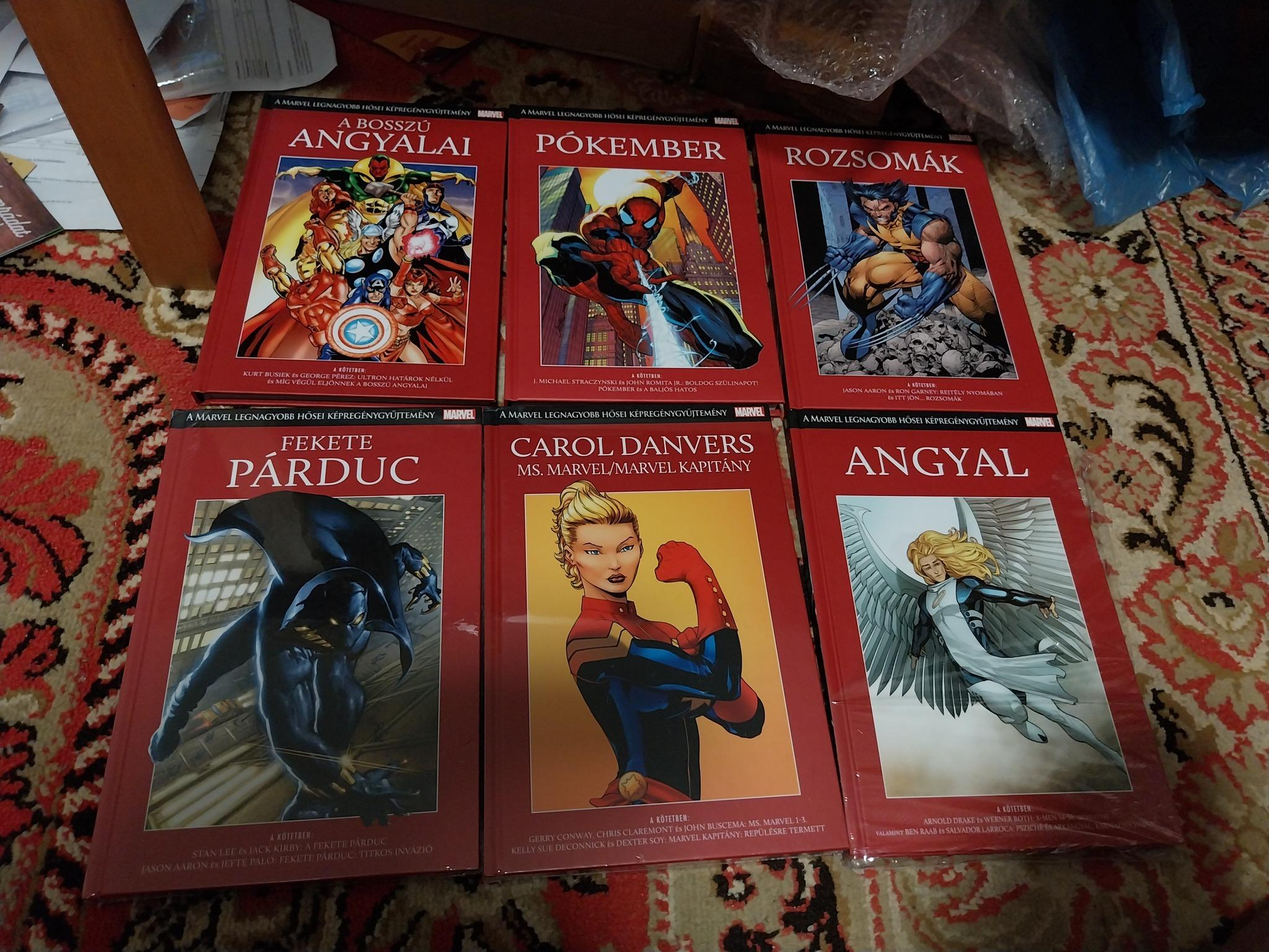comic: (784, 363, 1180, 892), (86, 407, 481, 894), (472, 397, 846, 873), (753, 91, 1055, 446), (194, 94, 506, 409), (503, 107, 785, 403)
